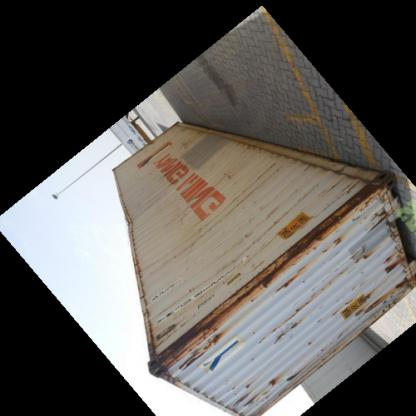Damage: (304, 174, 384, 252), (150, 310, 228, 372), (254, 308, 302, 348), (222, 375, 278, 404), (330, 293, 395, 317), (246, 271, 298, 295)
